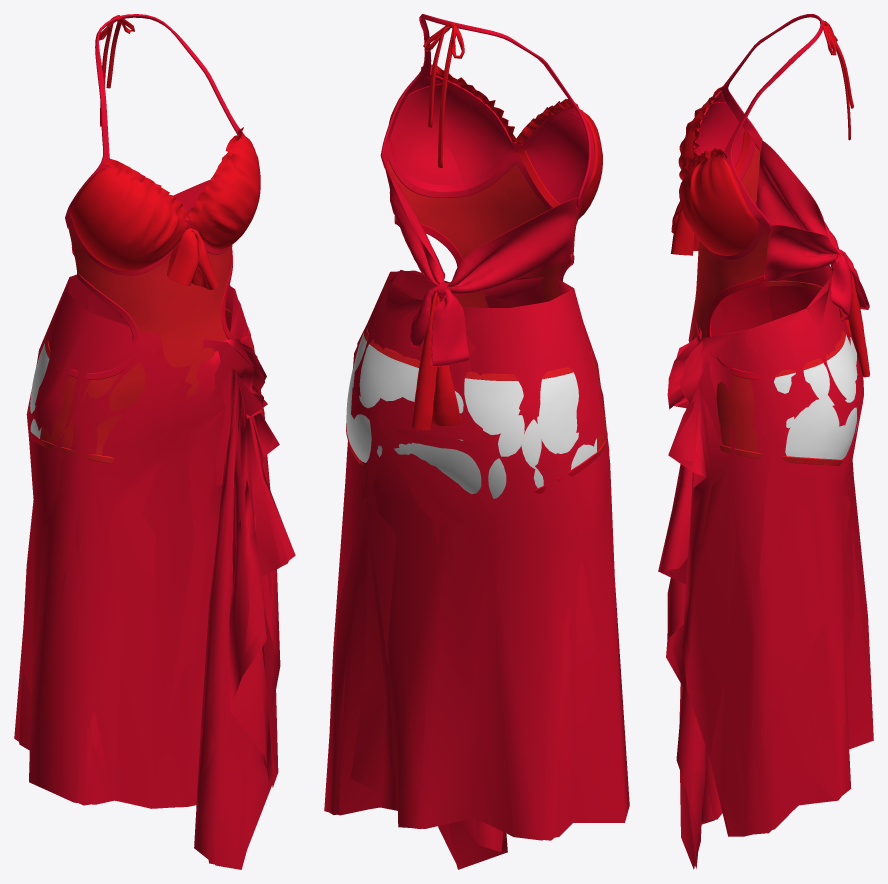
Rendered from dress.glb.
3 renders of one model, left to right at view 1: azimuth 30°, elevation 25°; view 2: azimuth 150°, elevation 25°; view 3: azimuth 270°, elevation 25°, orthographic. The views are drawn at different scales.
Visible parts, largest first — view 1: Object_5, Object_6, Object_2, Object_8, Object_7, Object_4; view 2: Object_5, Object_8, Object_4, Object_7, Object_2, Object_6, Object_3; view 3: Object_5, Object_6, Object_2, Object_8, Object_7, Object_4, Object_3.
Boxes of the visible parts, left/top/right/bottom form: Object_5: left=14, top=274, right=295, bottom=869; Object_6: left=71, top=15, right=260, bottom=289; Object_2: left=39, top=224, right=262, bottom=463; Object_8: left=57, top=179, right=229, bottom=379; Object_7: left=65, top=14, right=249, bottom=248; Object_4: left=30, top=342, right=49, bottom=438; Object_5: left=324, top=270, right=629, bottom=869; Object_8: left=382, top=83, right=593, bottom=366; Object_4: left=346, top=333, right=596, bottom=498; Object_7: left=380, top=14, right=594, bottom=366; Object_2: left=346, top=159, right=607, bottom=465; Object_6: left=389, top=22, right=602, bottom=430; Object_3: left=394, top=216, right=597, bottom=493; Object_5: left=658, top=265, right=873, bottom=869; Object_6: left=670, top=20, right=869, bottom=377; Object_2: left=691, top=145, right=845, bottom=465; Object_8: left=709, top=136, right=838, bottom=281; Object_7: left=693, top=14, right=869, bottom=321; Object_4: left=774, top=335, right=858, bottom=459; Object_3: left=706, top=275, right=819, bottom=379.
Size of the model in its own units: 391 by 1230 by 293.
Materials: 7 (1 with a texture image).
